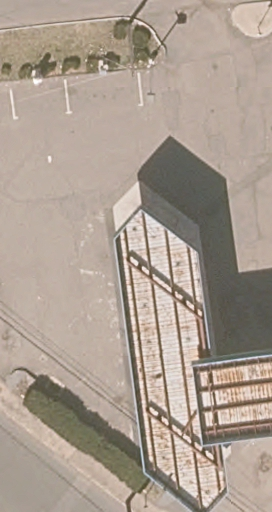DT: (116, 17, 159, 77)
